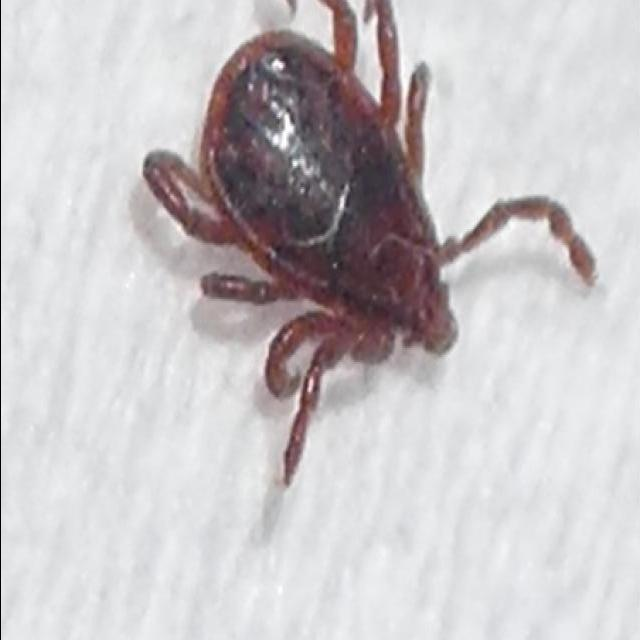Rhipicephalus Sanguineus-M: (140, 0, 596, 484)
